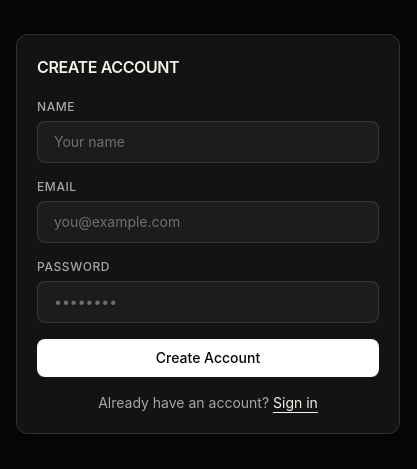
SignupPage › shows validation error on failed signup
Step 1. Type "Artist" into the field labelled "Name" → (208, 142), box [37, 121, 379, 163]
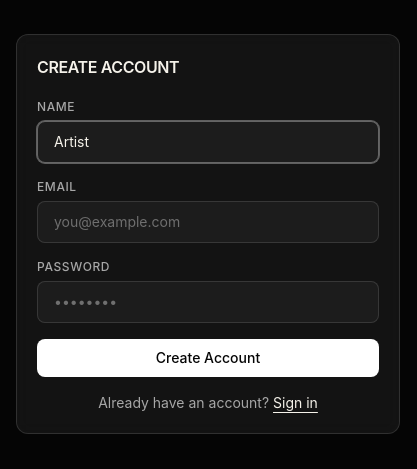
Step 2. Type "test@example.com" into the field labelled "Email" → (208, 222), box [37, 201, 379, 243]
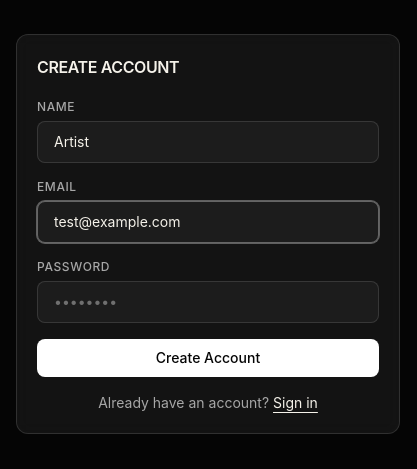
Step 3. Type "password" into the password field labelled "Password" → (208, 302), box [37, 281, 379, 323]
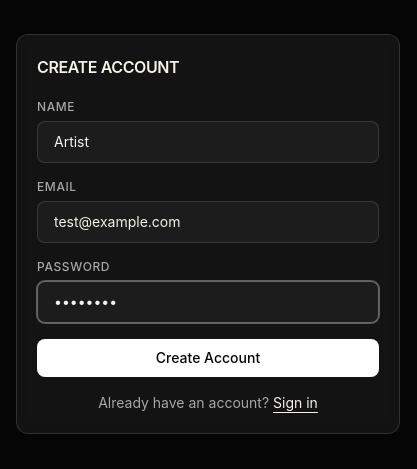
Step 4. Click the button "Create Account" → (208, 358), box [37, 339, 379, 377]
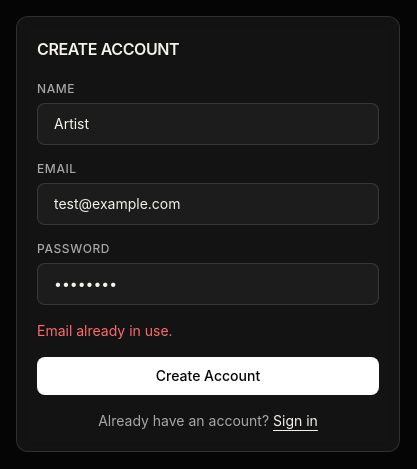
Now the text "Email already in use." is shown, box [37, 322, 173, 339]
